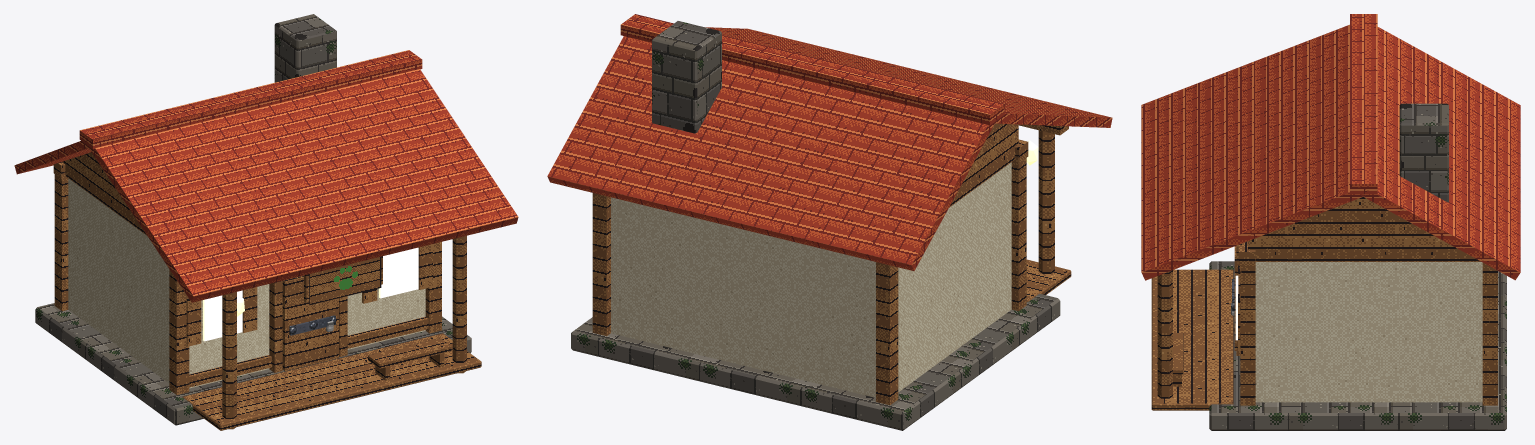
File: safari_rest_house.glb
The picture shows the model from 3 angles, left to right: view 1: azimuth 30°, elevation 25°; view 2: azimuth 150°, elevation 25°; view 3: azimuth 270°, elevation 25°; orthographic projection. The views are drawn at different scales.
Parts seen in each view (by area): view 1: House, Door, Glow; view 2: House; view 3: House.
Part boxes in pixels (bbox=[...]): House: bbox=[14, 14, 518, 430]; Door: bbox=[282, 275, 338, 371]; Glow: bbox=[203, 247, 418, 341]; House: bbox=[547, 14, 1112, 430]; House: bbox=[1141, 14, 1520, 430].
Size of the model in its own units: 7.3 by 5.7 by 6.88.
Materials: 9 (7 with a texture image).
